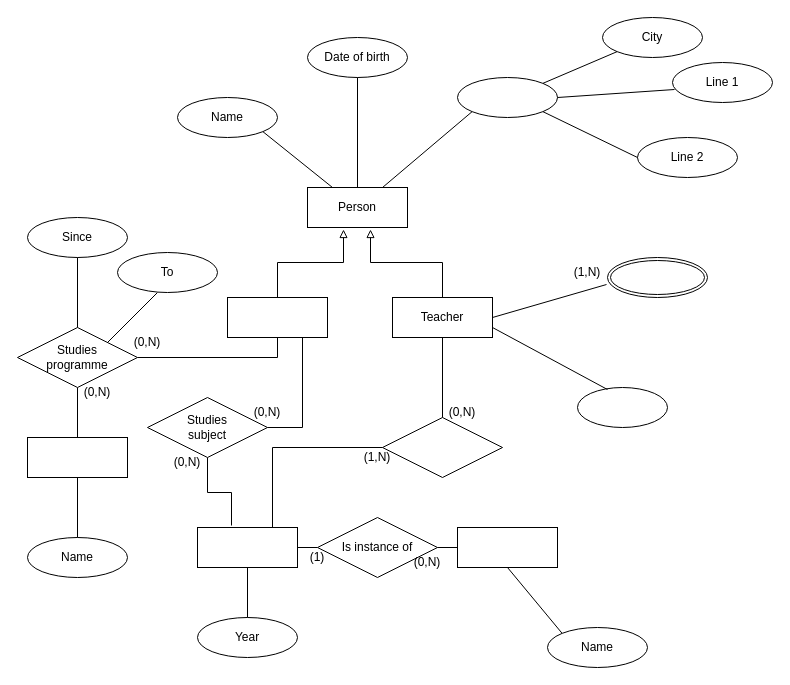
Image size: 790x685. Some labels were removed from this diagram. Each missing label, with the centre of its shape:
"Address" goes at point 507,97.
"Degree" goes at point 657,277.
"Salary" goes at point 622,407.
"Student" goes at point 277,317.
"Study Programme" goes at point 77,457.
"Subject" goes at point 507,547.
"Subject Instance" goes at point 247,547.
"Teaches" goes at point 442,447.
